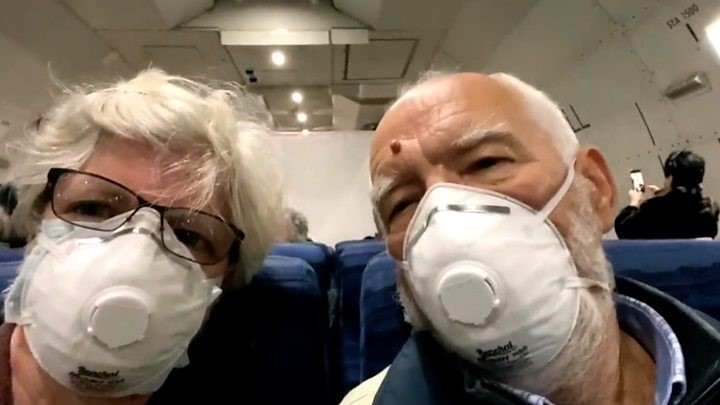face_with_mask: (366, 81, 620, 392), (16, 115, 256, 399)
